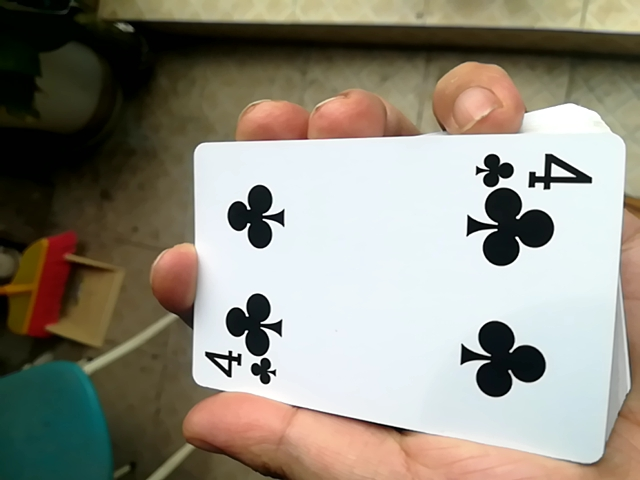mh 4: (186, 117, 623, 463)
